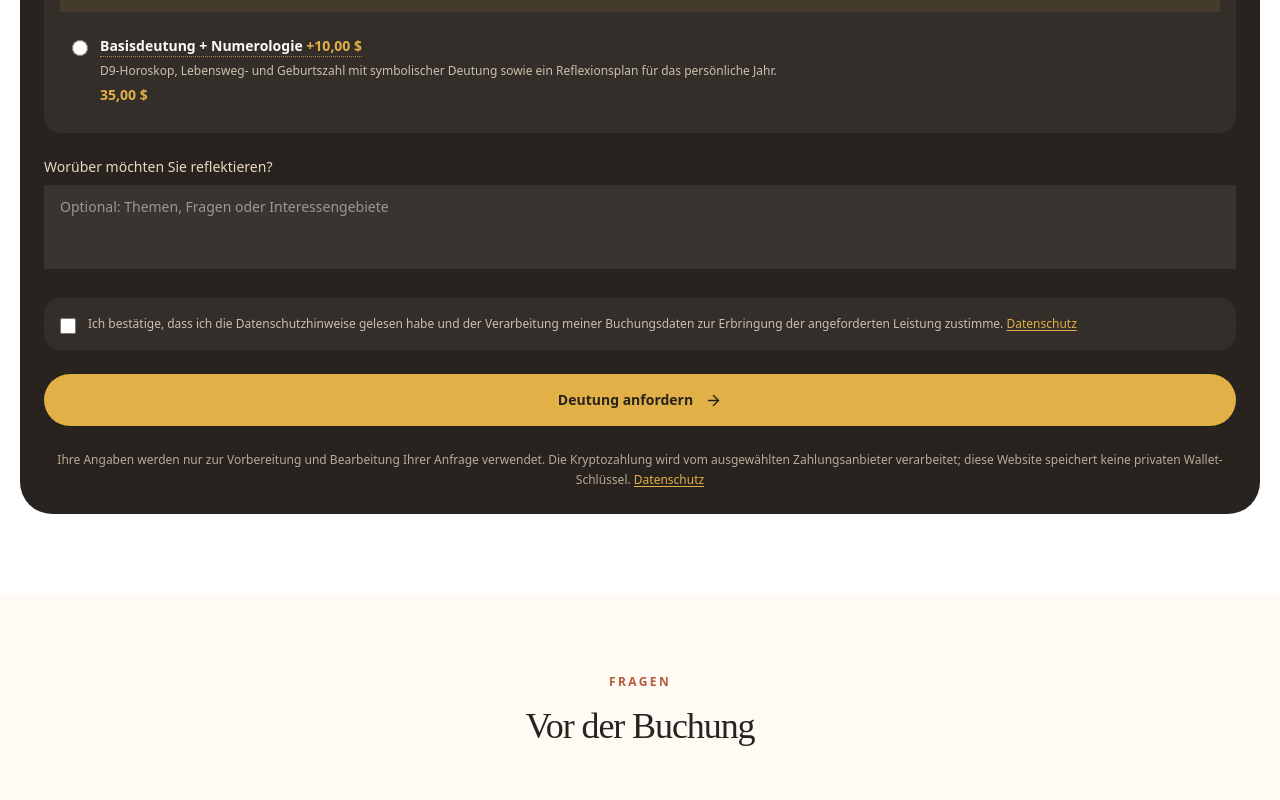
Test: Home booking payment UX › shows application-controlled validation in de
(page scrolled)
Click the button "Deutung anfordern": (640, 400) [44, 374, 1236, 426]
(page scrolled)
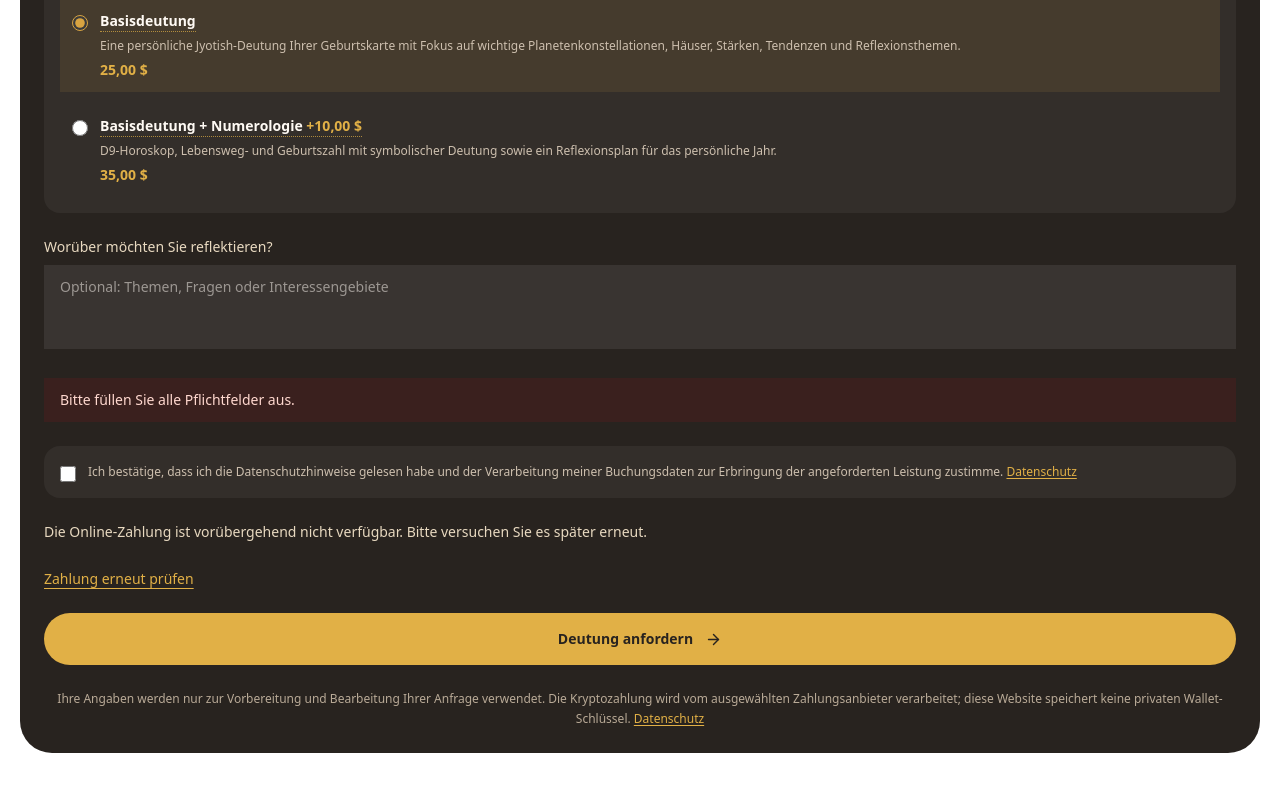
Expected: the message "Bitte füllen Sie alle Pflichtfelder aus." is shown, [44, 378, 1236, 422]
